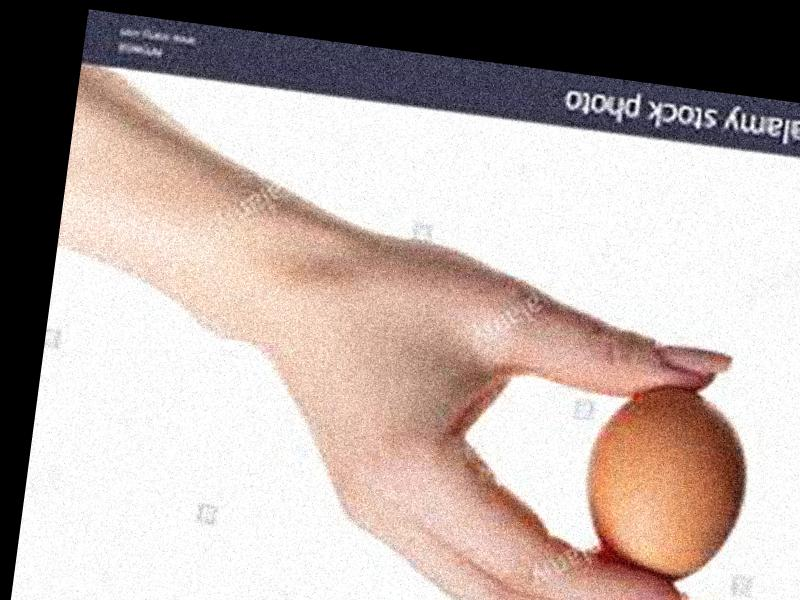Eggs: (568, 377, 758, 588)
